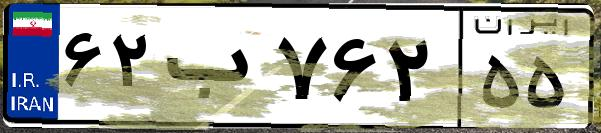2: (385, 28, 445, 110), (110, 28, 158, 98)
5: (475, 38, 525, 113), (525, 38, 570, 115)
6: (330, 28, 385, 110), (57, 26, 110, 100)
7: (270, 28, 330, 110)
ب: (158, 20, 270, 120)
